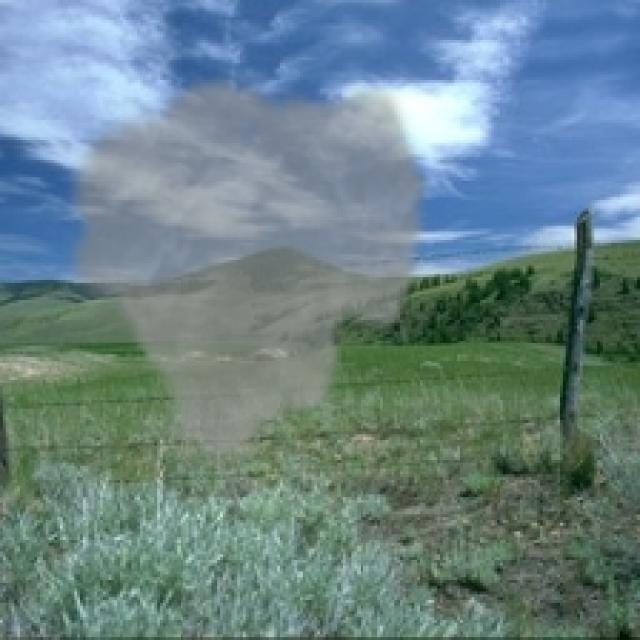smoke: (57, 72, 434, 474)
